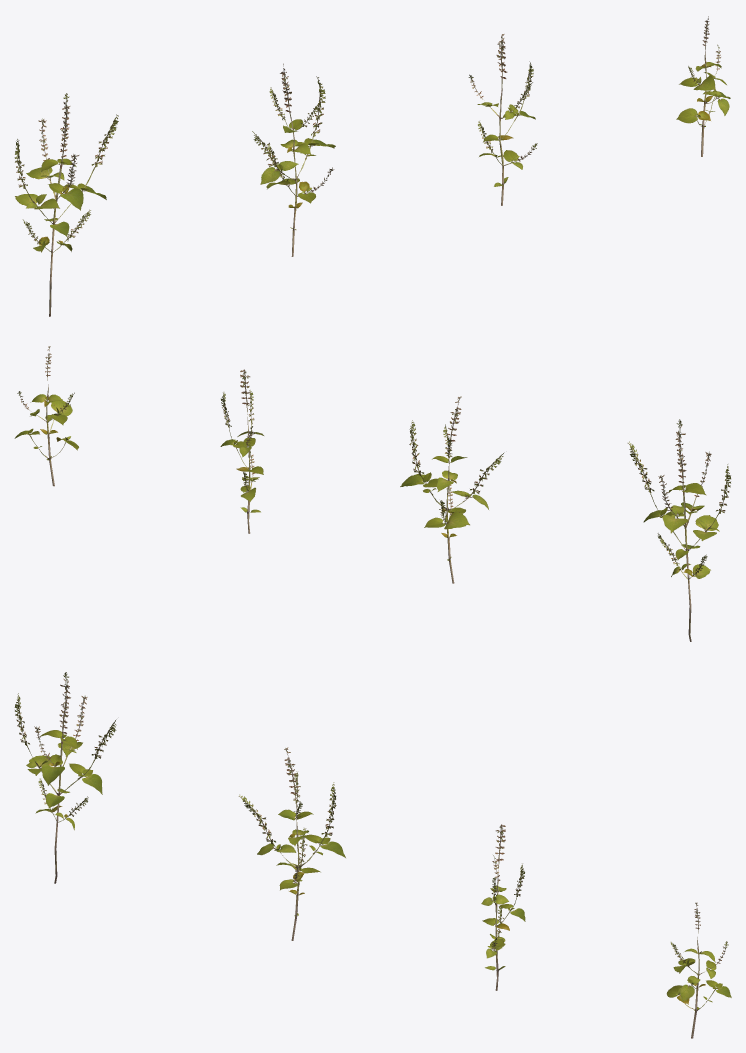
File: shrub_03.glb
3 views of the same model, one above another, from view 1: azimuth 30°, elevation 25°; view 2: azimuth 150°, elevation 25°; view 3: azimuth 330°, elevation 25° (orthographic). The views are drawn at different scales.
Visible parts, largest first — view 1: shrub_03_a, shrub_03_b, shrub_03_c, shrub_03_d; view 2: shrub_03_a, shrub_03_b, shrub_03_c, shrub_03_d; view 3: shrub_03_a, shrub_03_b, shrub_03_d, shrub_03_c.
Part boxes in pixels (x1,y1,x2,y2): shrub_03_a: (14, 93, 118, 316); shrub_03_b: (252, 63, 335, 256); shrub_03_c: (468, 34, 537, 205); shrub_03_d: (676, 16, 730, 156); shrub_03_a: (627, 419, 730, 641); shrub_03_b: (400, 396, 504, 583); shrub_03_c: (220, 369, 263, 533); shrub_03_d: (14, 346, 78, 486); shrub_03_a: (14, 672, 116, 883); shrub_03_b: (238, 747, 345, 940); shrub_03_d: (666, 902, 731, 1038); shrub_03_c: (481, 824, 525, 990).
Bounding box in the file's own units: 1.37 × 0.4028 × 0.1512.
Materials: 1 (1 with a texture image).
